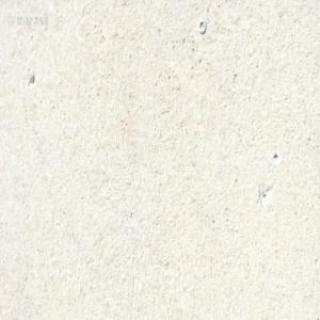Washertrack_idkeyframe: (197, 18, 205, 32)
